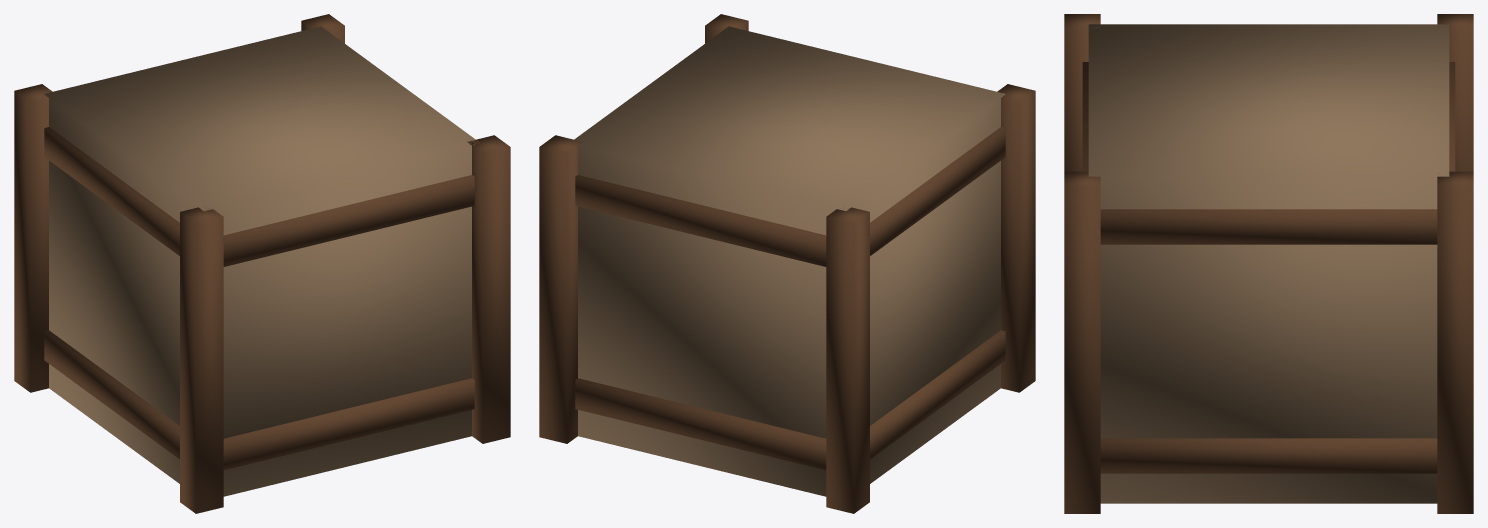
Rendered from crate.glb.
3 views of the same model, side by side, from view 1: azimuth 30°, elevation 25°; view 2: azimuth 150°, elevation 25°; view 3: azimuth 270°, elevation 25° (orthographic). The views are drawn at different scales.
Parts seen in each view (by area): view 1: box, post, strap, strap.001, post.002, post.001, post.003; view 2: box, post.001, strap, strap.001, post.003, post, post.002; view 3: box, strap.001, post.002, post.003, strap, post, post.001.
Part boxes in pixels (left/top/right/bottom): box: left=44, top=26, right=477, bottom=496; post: left=180, top=207, right=223, bottom=513; strap: left=44, top=330, right=474, bottom=470; strap.001: left=44, top=127, right=474, bottom=266; post.002: left=467, top=135, right=510, bottom=443; post.001: left=14, top=84, right=52, bottom=392; post.003: left=301, top=14, right=344, bottom=43; box: left=572, top=26, right=1005, bottom=496; post.001: left=826, top=207, right=869, bottom=513; strap: left=575, top=330, right=1005, bottom=470; strap.001: left=575, top=127, right=1005, bottom=266; post.003: left=539, top=135, right=582, bottom=443; post: left=997, top=84, right=1035, bottom=392; post.002: left=705, top=14, right=748, bottom=43; box: left=1088, top=24, right=1449, bottom=503; strap.001: left=1082, top=62, right=1455, bottom=244; post.002: left=1064, top=171, right=1100, bottom=513; post.003: left=1437, top=171, right=1473, bottom=513; strap: left=1100, top=438, right=1437, bottom=473; post: left=1064, top=14, right=1100, bottom=171; post.001: left=1437, top=14, right=1473, bottom=171.
Size of what is drawn, in the model's own units: 0.68 by 0.6 by 0.68.
